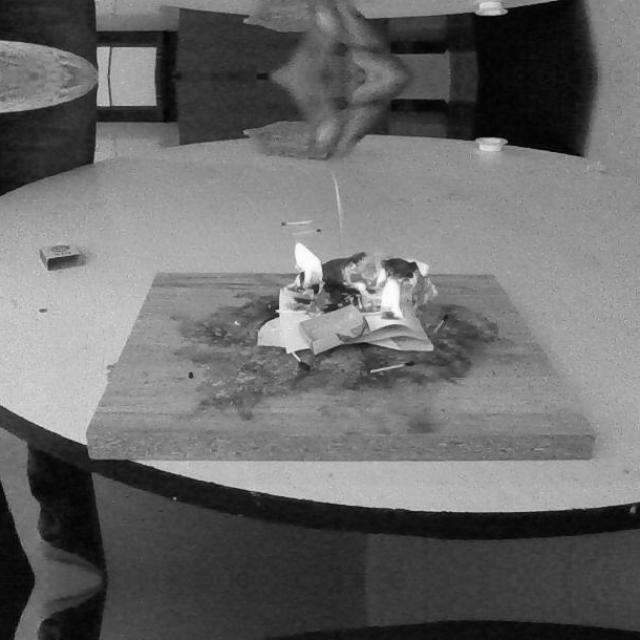smoke: (289, 239, 326, 294), (372, 277, 412, 323)
